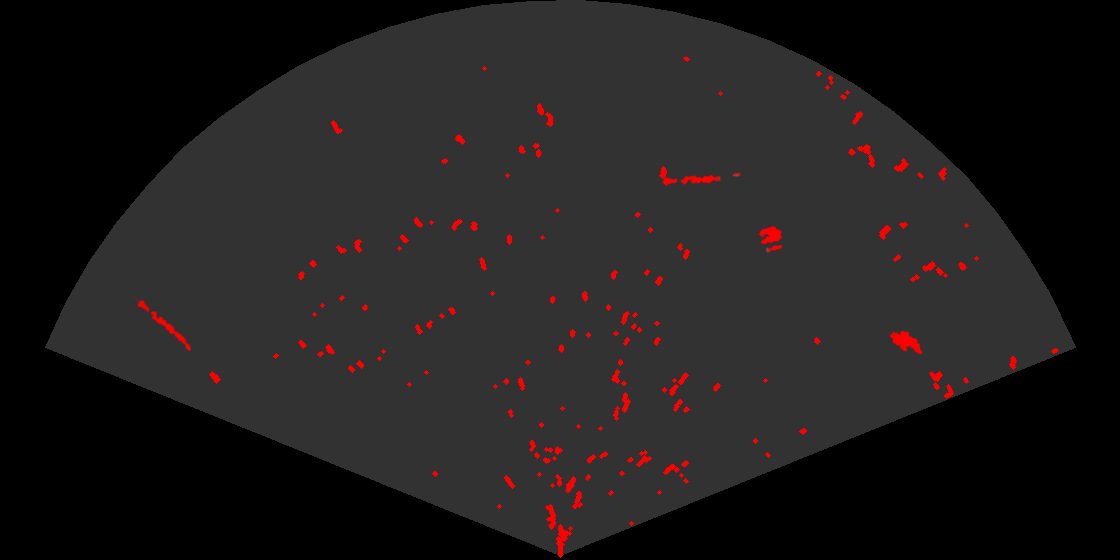AUV: (888, 329, 924, 356)
ball: (757, 224, 784, 254)
chain: (132, 293, 193, 353), (661, 171, 741, 188)
